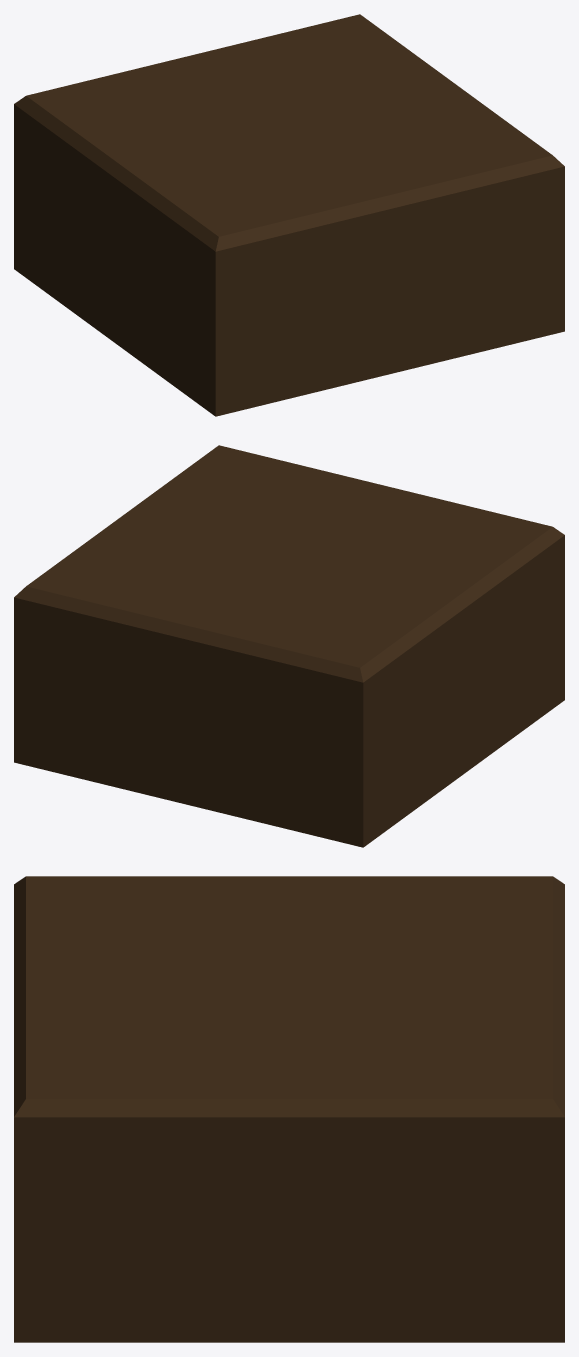
The picture shows the model from 3 angles, top to bottom: view 1: azimuth 30°, elevation 25°; view 2: azimuth 150°, elevation 25°; view 3: azimuth 270°, elevation 25°; orthographic projection. The views are drawn at different scales.
Visible parts, largest first — view 1: Cube; view 2: Cube; view 3: Cube.
Boxes of the visible parts, <box> form: Cube: <box>14,14,564,416</box>; Cube: <box>14,445,564,847</box>; Cube: <box>14,876,564,1342</box>.
Bounding box in the file's own units: 2.09 × 1 × 2.09.
1 material, 1 textured.
